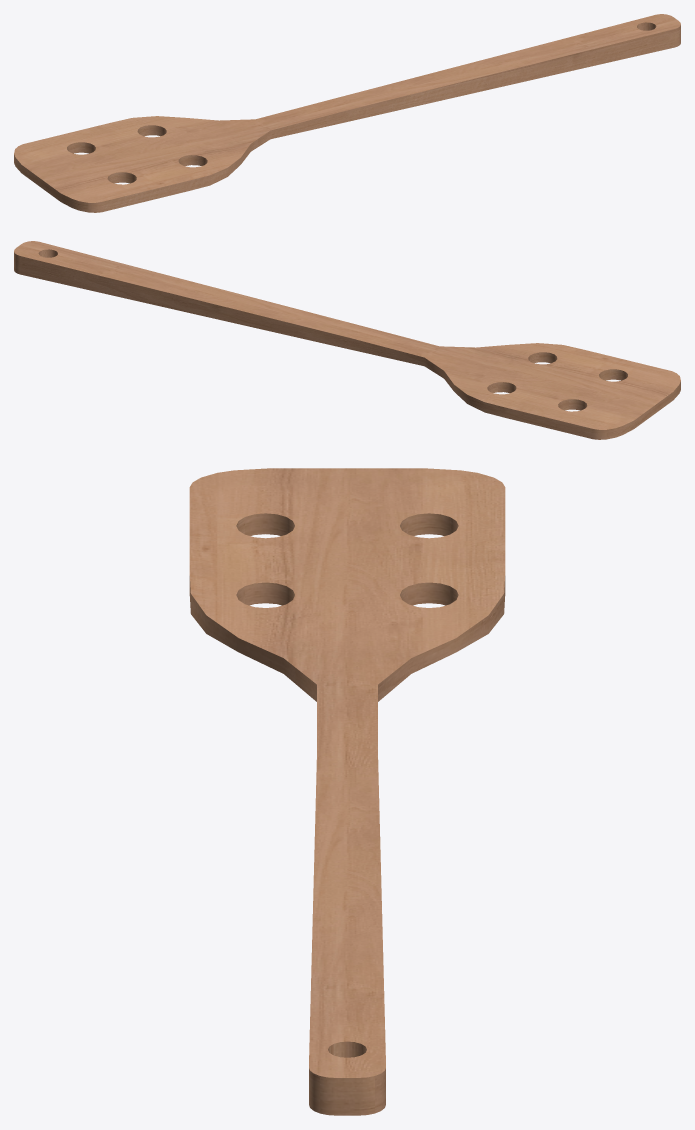
Rendered from wooden_ladle.glb.
3 renders of one model, top to bottom at view 1: azimuth 30°, elevation 25°; view 2: azimuth 150°, elevation 25°; view 3: azimuth 270°, elevation 25°, orthographic. The views are drawn at different scales.
Parts seen in each view (by area): view 1: wooden_ladle; view 2: wooden_ladle; view 3: wooden_ladle.
Boxes of the visible parts, bbox=[...] form: wooden_ladle: bbox=[14, 14, 680, 212]; wooden_ladle: bbox=[14, 241, 680, 439]; wooden_ladle: bbox=[189, 468, 505, 1115].
Size of the model in its own units: 0.2242 by 0.00635 by 0.0483.
Materials: 1 (1 with a texture image).
